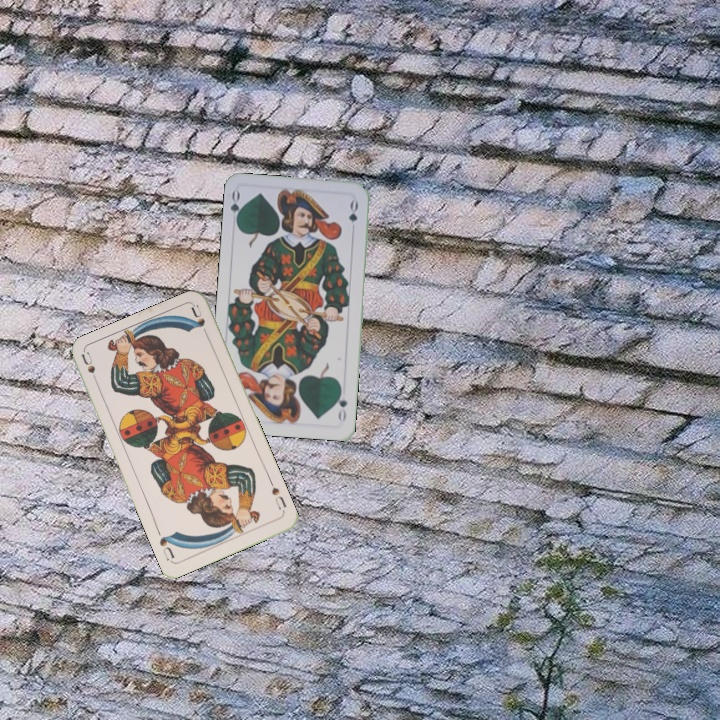GO: (226, 187, 246, 228), (333, 384, 350, 424)
SU: (78, 349, 102, 389), (265, 476, 289, 512)
